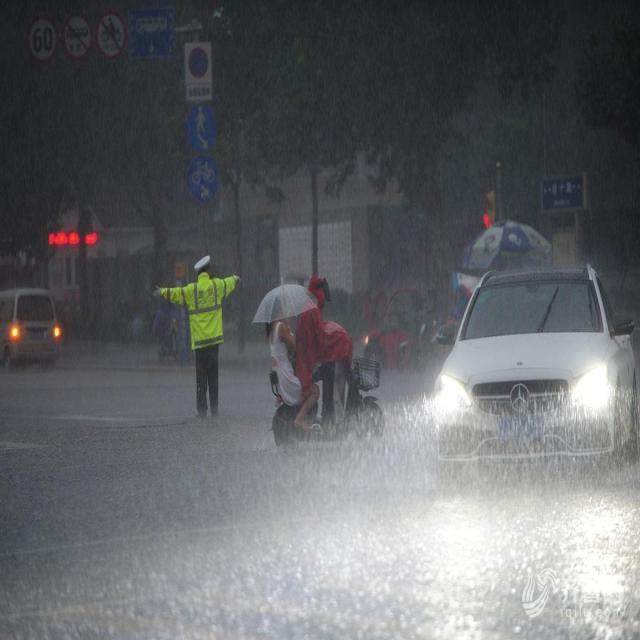car: (422, 262, 638, 480), (0, 288, 60, 367)
